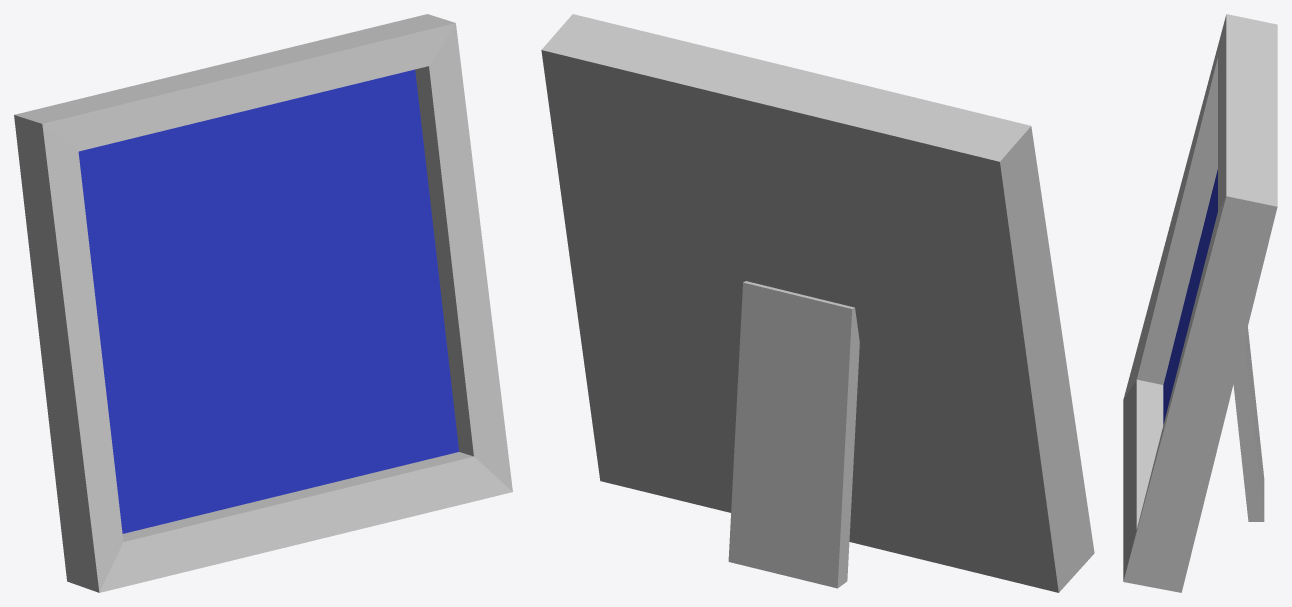
Rendered from Frame.fbx.
The picture shows the model from 3 angles, left to right: view 1: azimuth 30°, elevation 25°; view 2: azimuth 150°, elevation 25°; view 3: azimuth 270°, elevation 25°; orthographic projection. The views are drawn at different scales.
Parts seen in each view (by area): view 1: Frame; view 2: Frame; view 3: Frame.
Part boxes in pixels (x1,y1,x2,y2): Frame: (14,14,512,592); Frame: (541,14,1094,592); Frame: (1123,14,1277,592).
Size of the model in its own units: 111 by 112 by 39.59.
